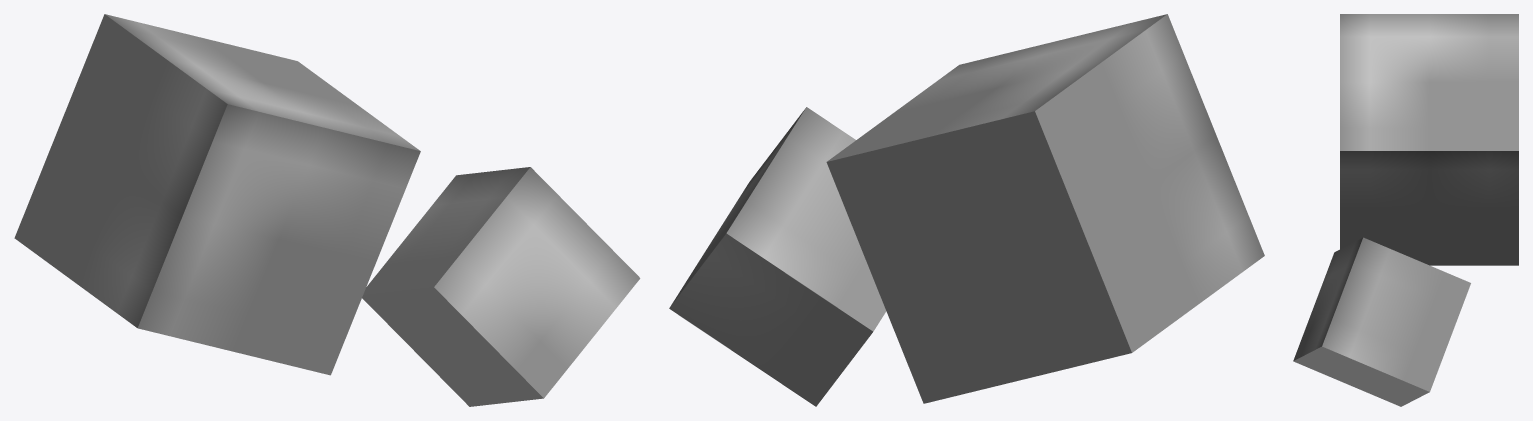
File: tile_dust_extra.fbx
The picture shows the model from 3 angles, left to right: view 1: azimuth 30°, elevation 25°; view 2: azimuth 150°, elevation 25°; view 3: azimuth 270°, elevation 25°; orthographic projection. The views are drawn at different scales.
Visible parts, largest first — view 1: tile_dust_extra; view 2: tile_dust_extra; view 3: tile_dust_extra.
Part boxes in pixels (x1,y1,x2,y2): tile_dust_extra: (14, 14, 640, 406); tile_dust_extra: (669, 14, 1264, 406); tile_dust_extra: (1293, 14, 1518, 406).
Size of the model in its own units: 0.4736 by 0.677 by 0.8626.
